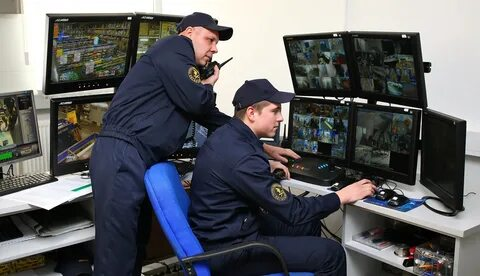awake: (87, 11, 219, 276), (187, 78, 348, 276)
